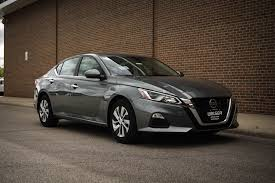Nissan: (34, 54, 238, 131)
